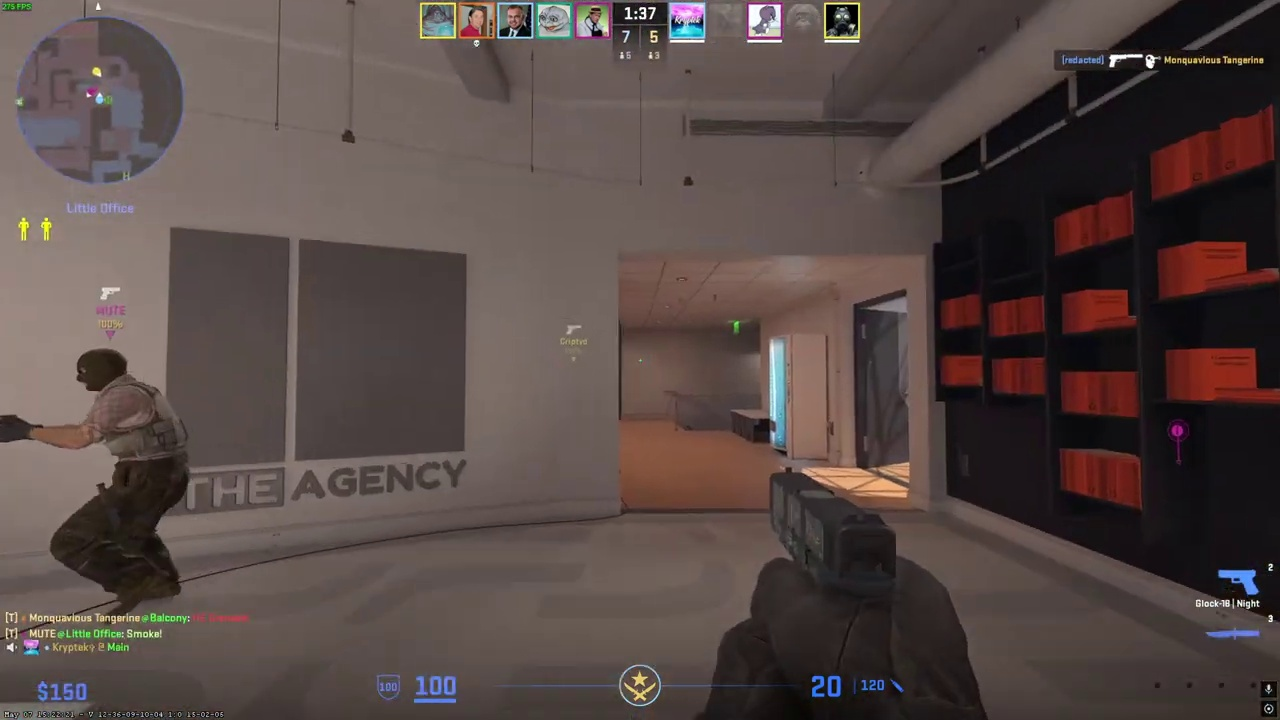Terrorist: (43, 348, 190, 625)
